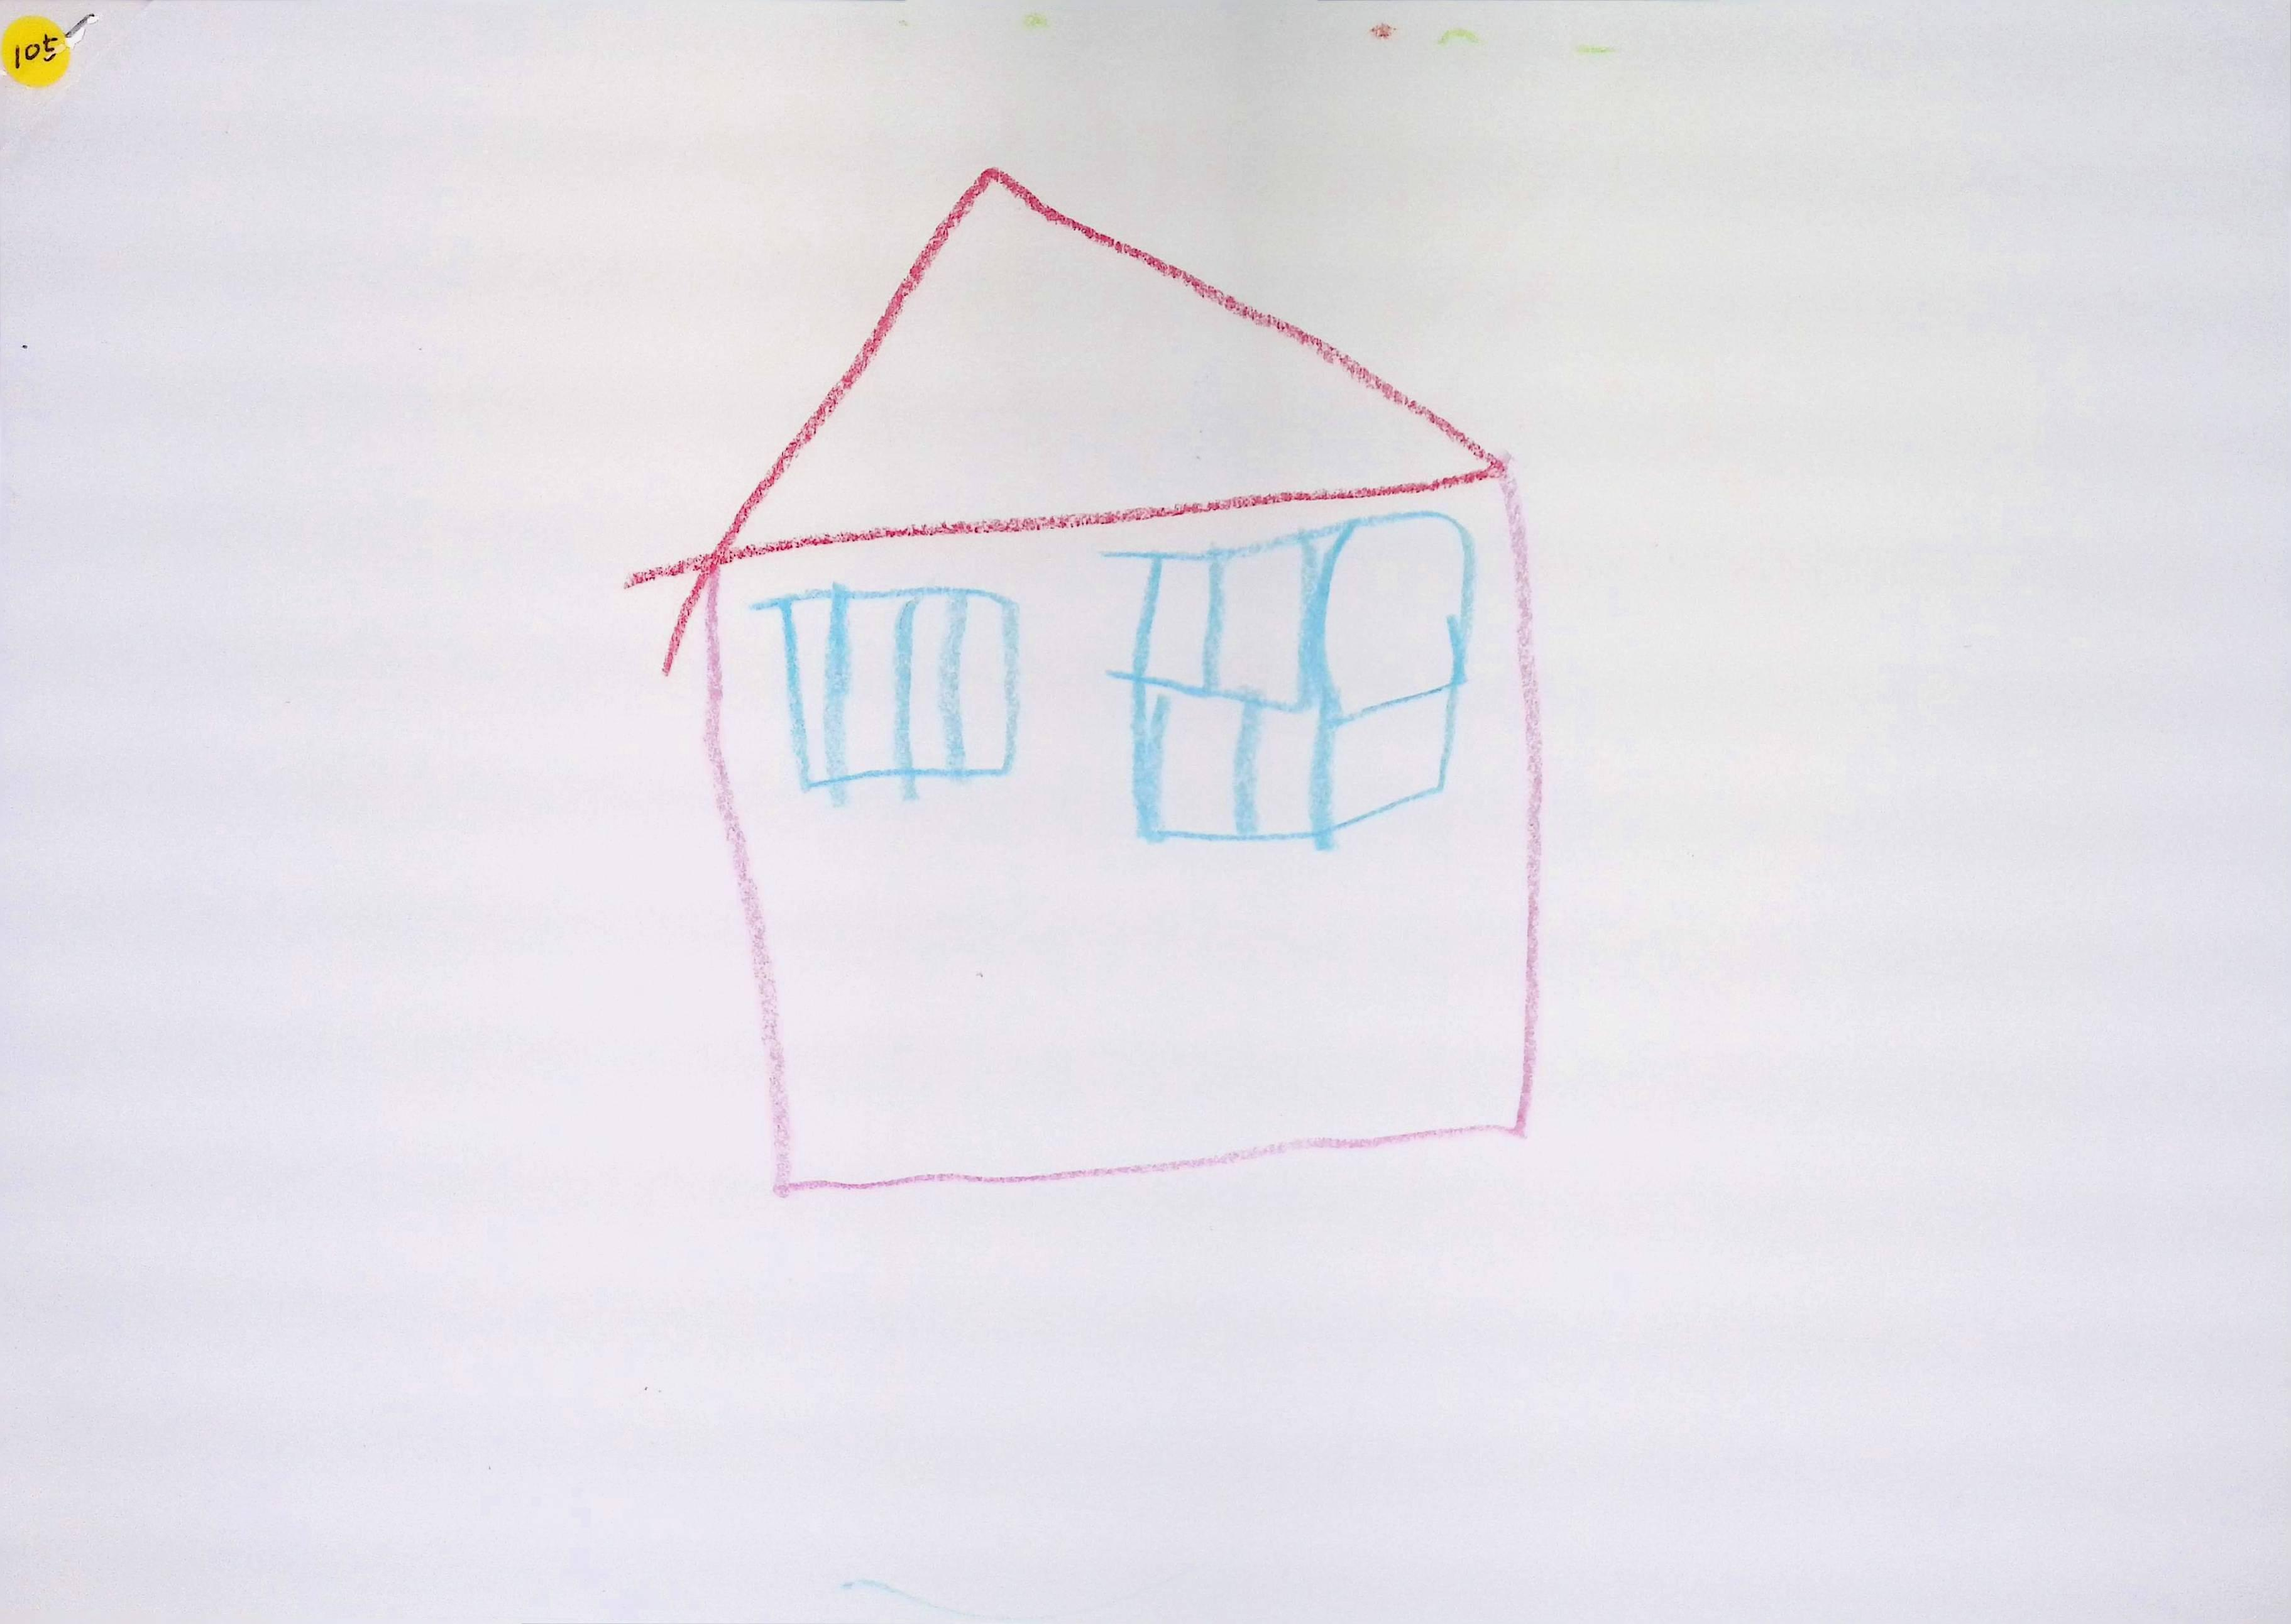house: (627, 165, 1543, 1192)
roof: (694, 160, 1532, 578)
wall: (699, 483, 1539, 1200)
window: (1114, 510, 1476, 847), (752, 582, 1019, 805)
